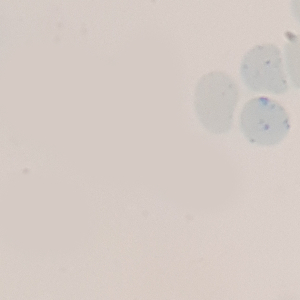aggregate reticulocyte: (238, 95, 293, 148)
punctate reticulocyte: (191, 70, 241, 137), (238, 42, 293, 98)
